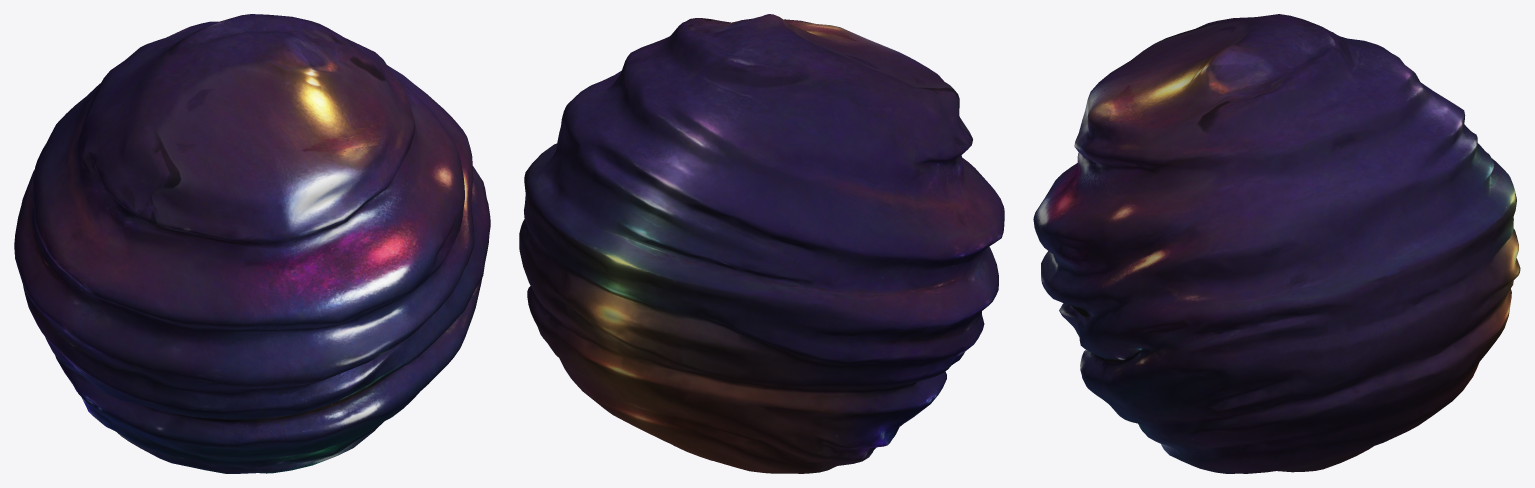
Rendered from Sapphire_Swirl_Sphere_0412015351_texture.glb.
3 renders of one model, left to right at view 1: azimuth 30°, elevation 25°; view 2: azimuth 150°, elevation 25°; view 3: azimuth 270°, elevation 25°, orthographic.
Size of the model in its own units: 2 by 1.88 by 2.
Materials: 1 (1 with a texture image).
